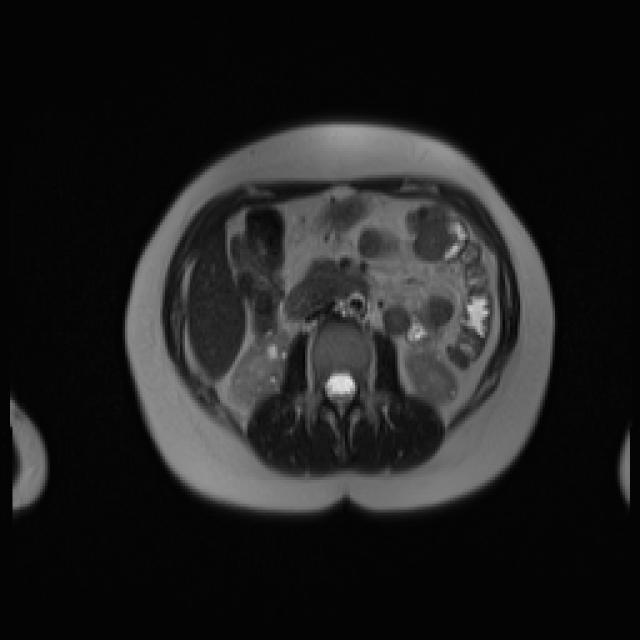sag: (229, 329, 291, 408), (404, 348, 459, 407)
